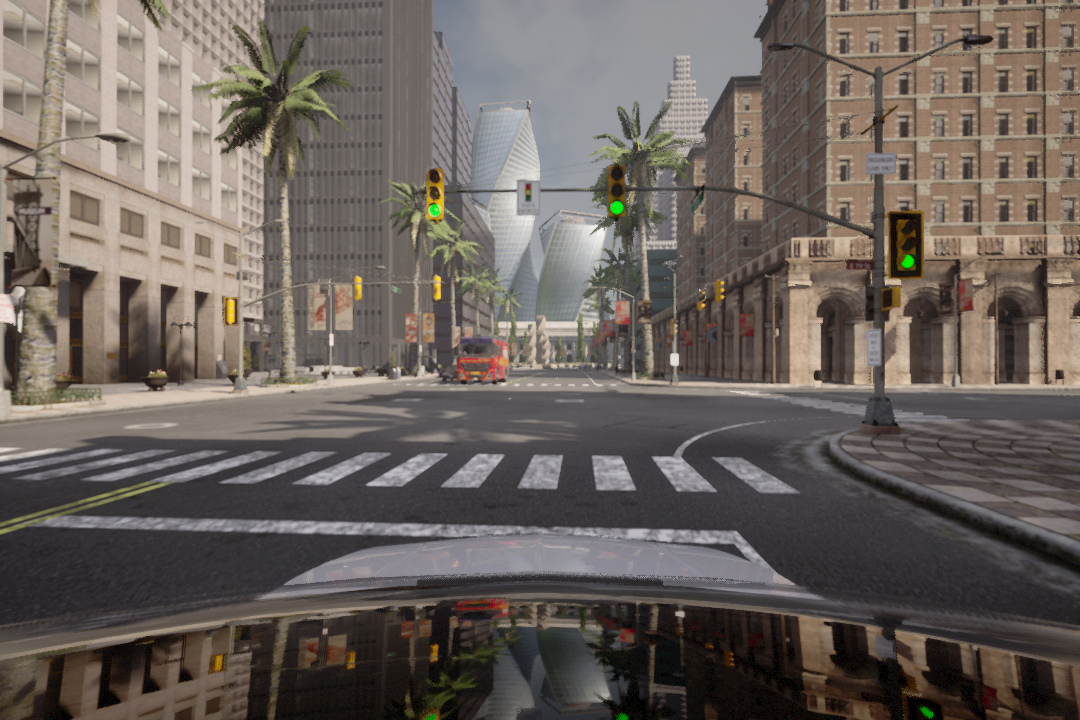TrafficLight: (896, 216, 921, 276), (607, 164, 629, 220), (424, 170, 445, 224)
walkside: (1, 444, 808, 505), (385, 378, 604, 394)
